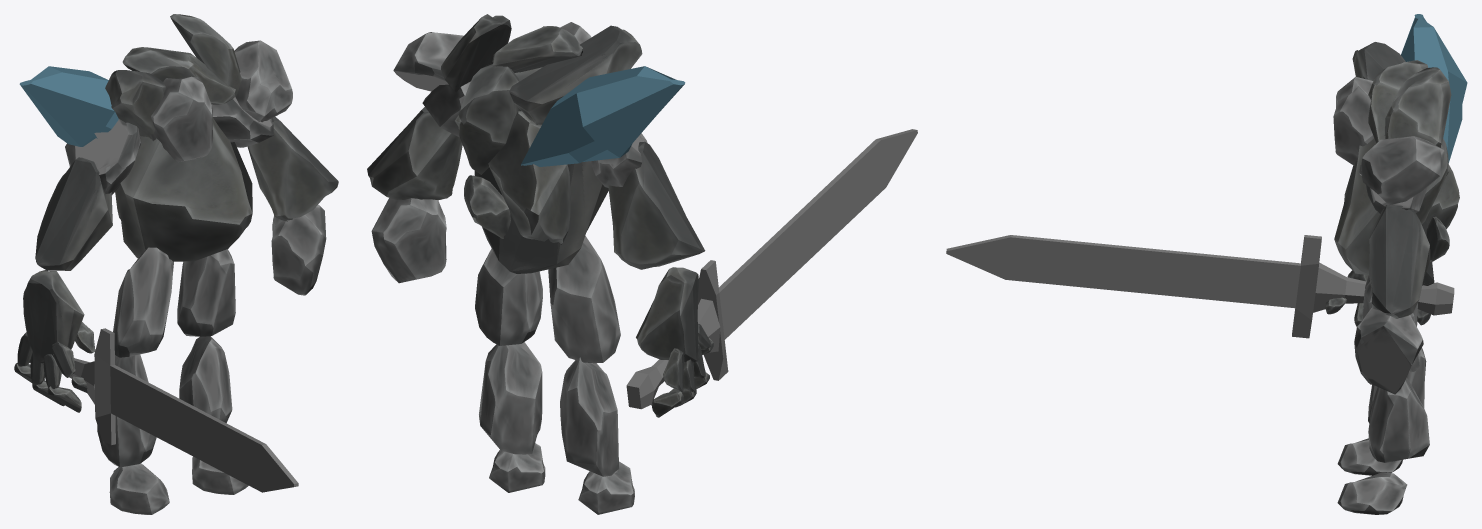
The model's file is stoneGiant.fbx.
The picture shows the model from 3 angles, left to right: view 1: azimuth 30°, elevation 25°; view 2: azimuth 150°, elevation 25°; view 3: azimuth 270°, elevation 25°; orthographic projection. The views are drawn at different scales.
Parts seen in each view (by area): view 1: Cube.001; view 2: Cube.001; view 3: Cube.001.
Part boxes in pixels (<box>): Cube.001: <box>14,14,338,514</box>; Cube.001: <box>367,14,917,514</box>; Cube.001: <box>946,14,1467,514</box>.
Size of the model in its own units: 271 by 379 by 413.
